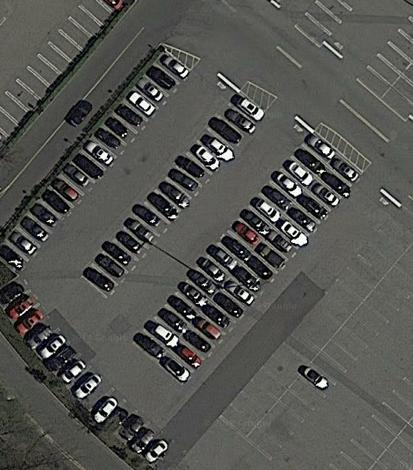parkingspot: (155, 150, 367, 389), (130, 129, 339, 366), (217, 189, 413, 441), (0, 48, 195, 279), (78, 87, 270, 303), (243, 240, 413, 463), (0, 273, 190, 470), (0, 0, 127, 149), (321, 366, 413, 470), (353, 8, 413, 125), (292, 0, 363, 50), (367, 415, 413, 470)
